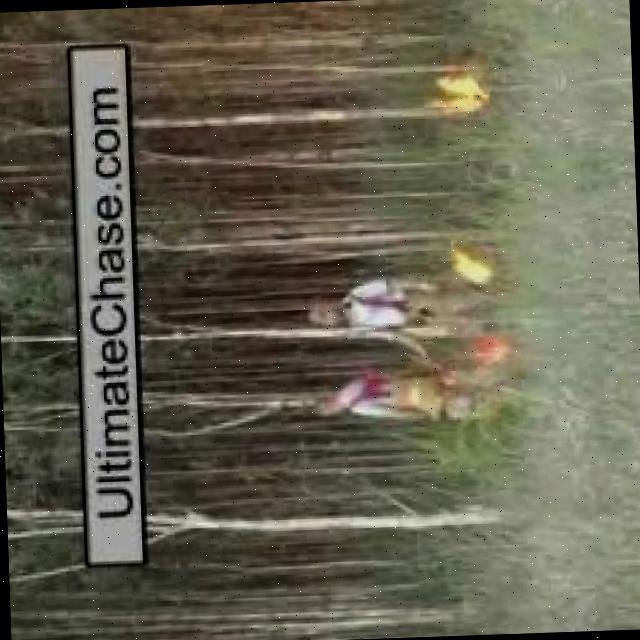fire: (426, 64, 498, 116), (452, 238, 496, 298), (475, 331, 516, 366)
